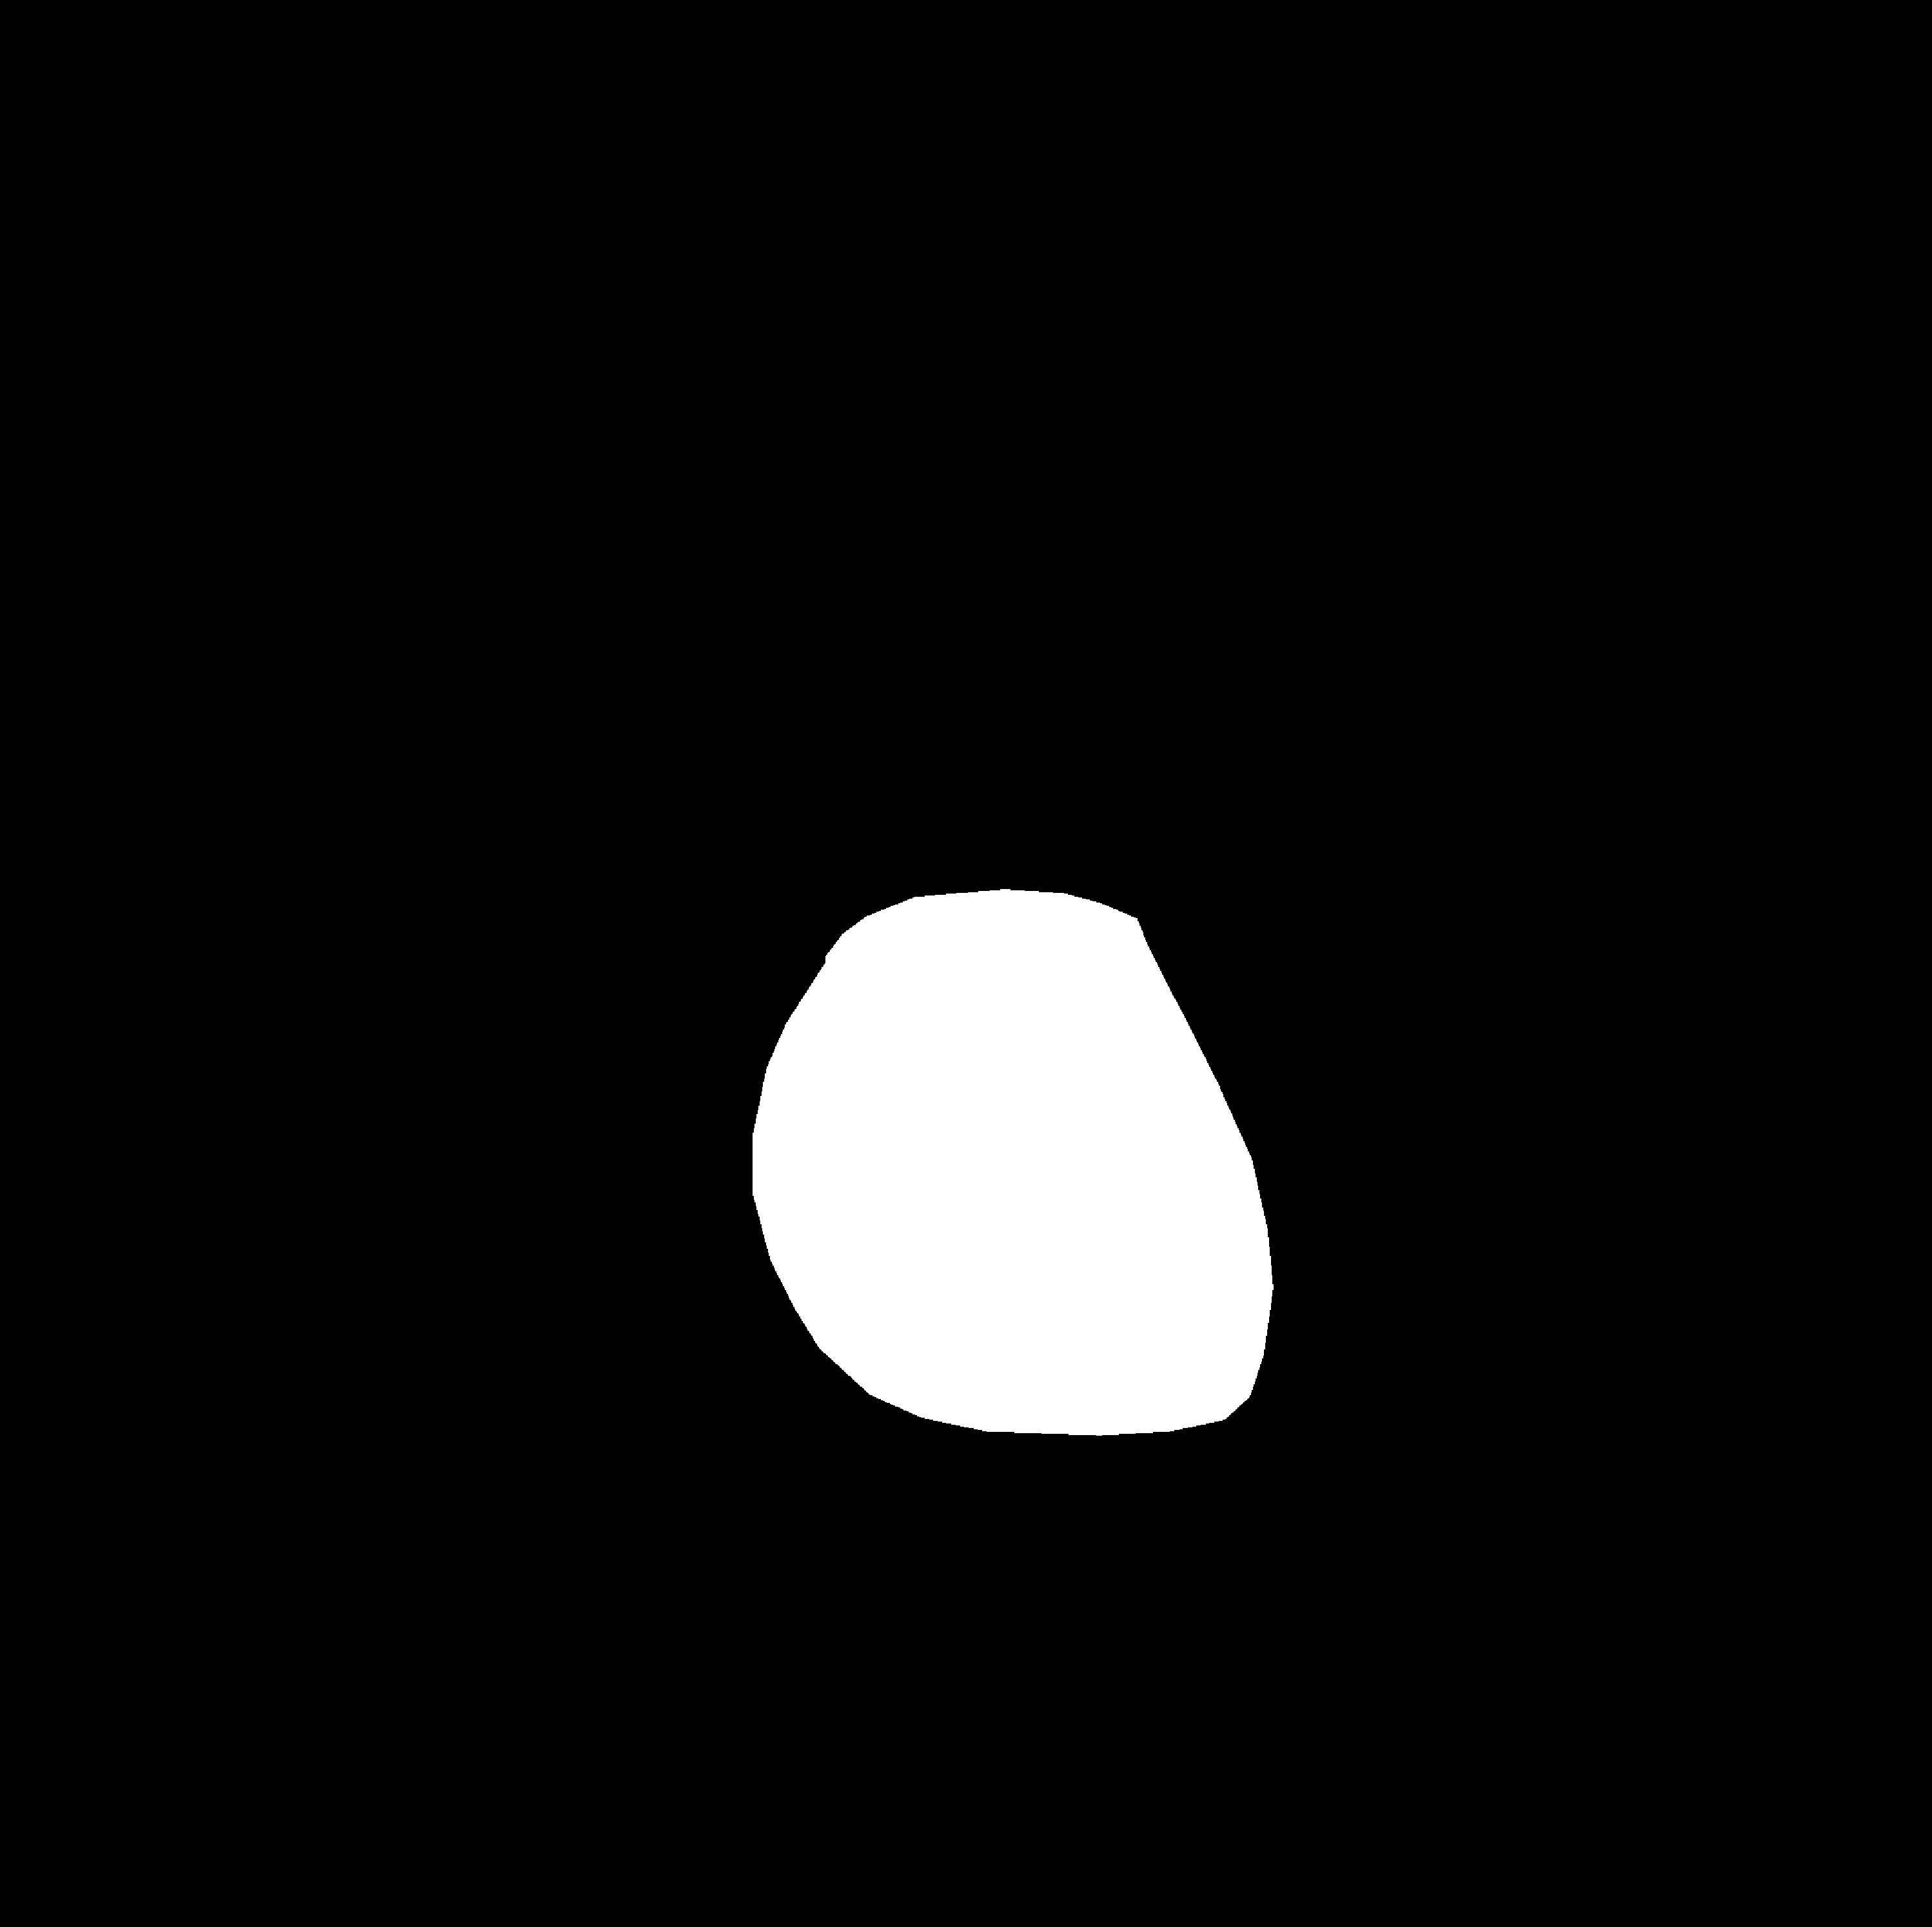heart: (755, 976, 1270, 1456)
left_lung: (266, 258, 895, 1669)
right_lung: (1030, 258, 1560, 1645)
